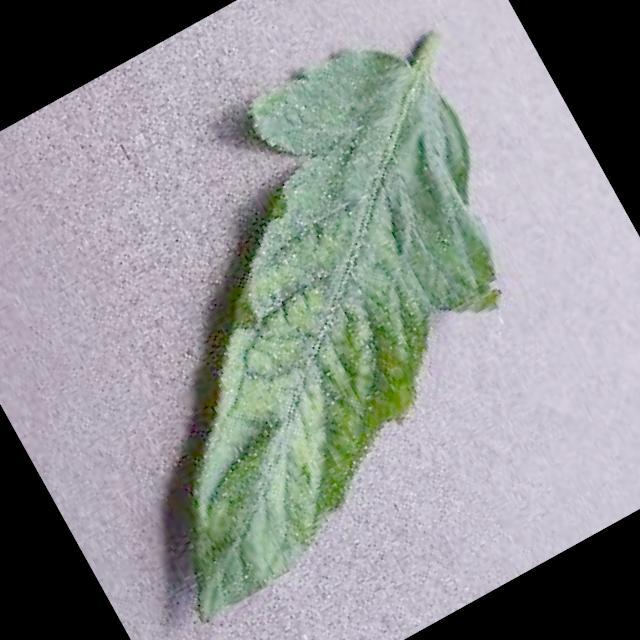Tomato mosaic virus leaf: (0, 10, 619, 631)
